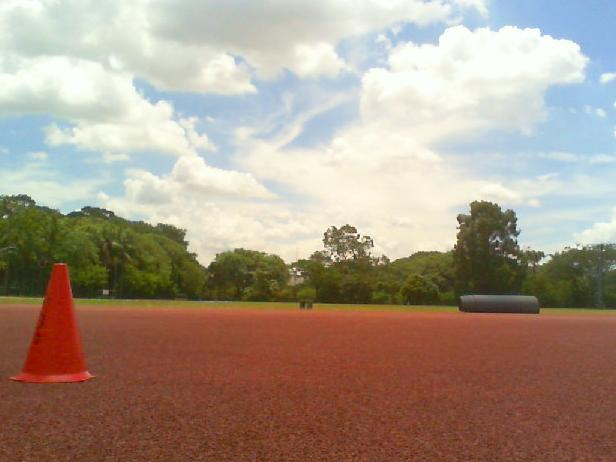0 cone: (9, 263, 96, 385)
